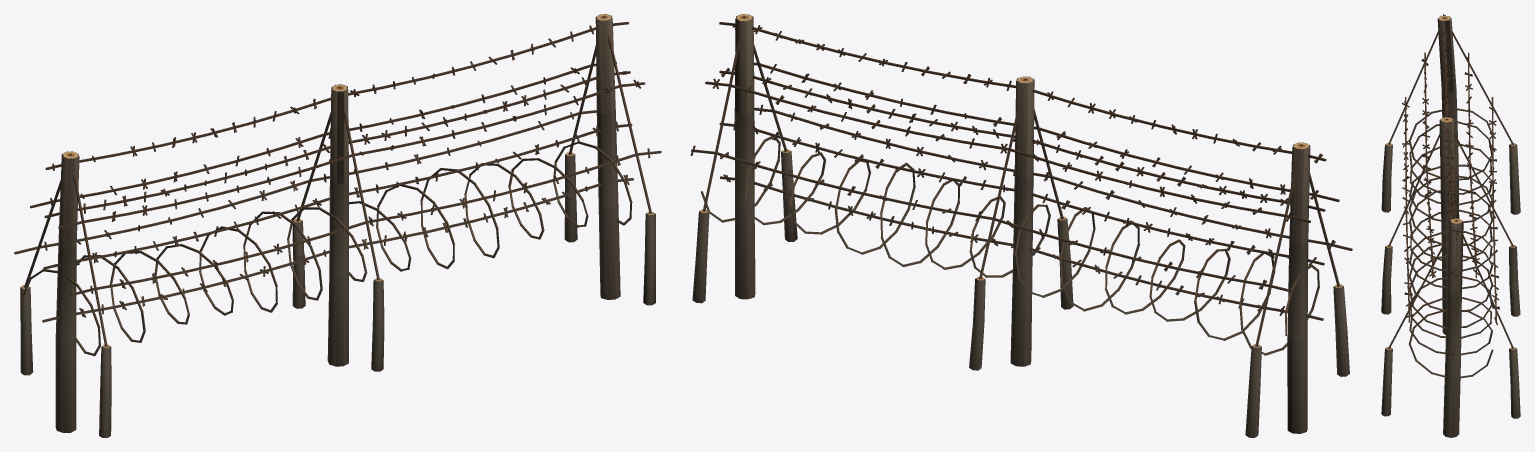
File: tel.glb
The picture shows the model from 3 angles, left to right: view 1: azimuth 30°, elevation 25°; view 2: azimuth 150°, elevation 25°; view 3: azimuth 270°, elevation 25°; orthographic projection. The views are drawn at different scales.
Parts seen in each view (by area): view 1: dark-wire-001, wood-001, wood-003, wood-002; view 2: dark-wire-001, wood-001, wood-003, wood-002; view 3: dark-wire-001, wood-003, wood-002, wood-001.
Boxes of the visible parts, x1=… form: dark-wire-001: x1=14, y1=16, x2=661, y2=356; wood-001: x1=20, y1=151, x2=111, y2=437; wood-003: x1=564, y1=14, x2=655, y2=305; wood-002: x1=292, y1=84, x2=384, y2=371; dark-wire-001: x1=690, y1=16, x2=1352, y2=355; wood-001: x1=1245, y1=142, x2=1349, y2=437; wood-003: x1=692, y1=14, x2=797, y2=303; wood-002: x1=969, y1=76, x2=1073, y2=370; dark-wire-001: x1=1388, y1=14, x2=1513, y2=378; wood-003: x1=1381, y1=218, x2=1520, y2=437; wood-002: x1=1381, y1=117, x2=1520, y2=334; wood-001: x1=1381, y1=15, x2=1520, y2=218.
Bounding box in the file's own units: 3.81 × 1.71 × 1.01.
